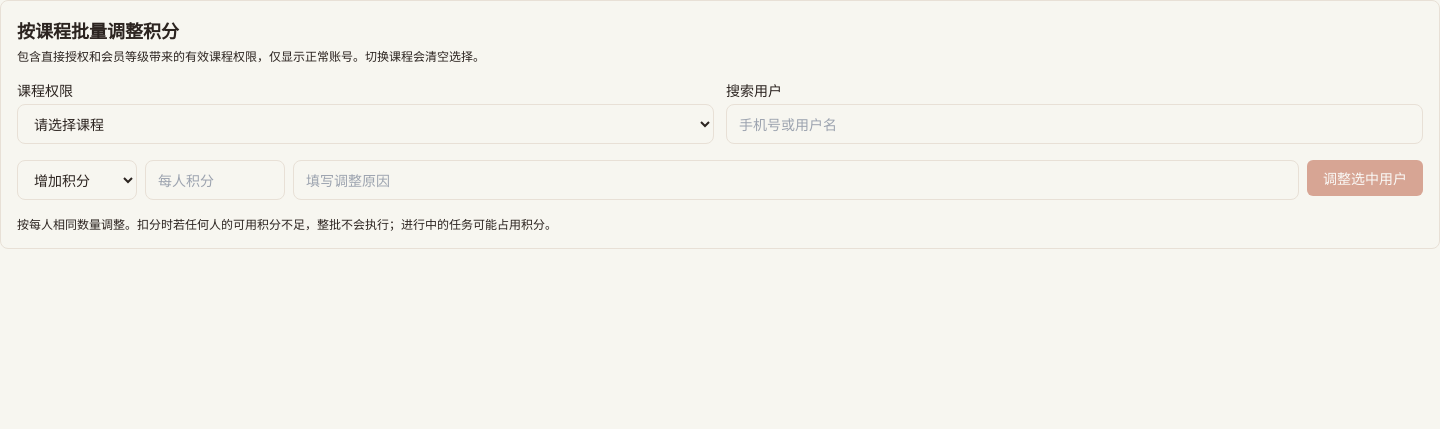
Test: 课程用户批量积分 › 切换课程清空选择，操作失败保留选择并提示核对
This screenshot has width=1440, height=429.
Select "道法教材解读课" in the dropdown labelled "课程权限" at x=366, y=124, box [17, 104, 714, 144]
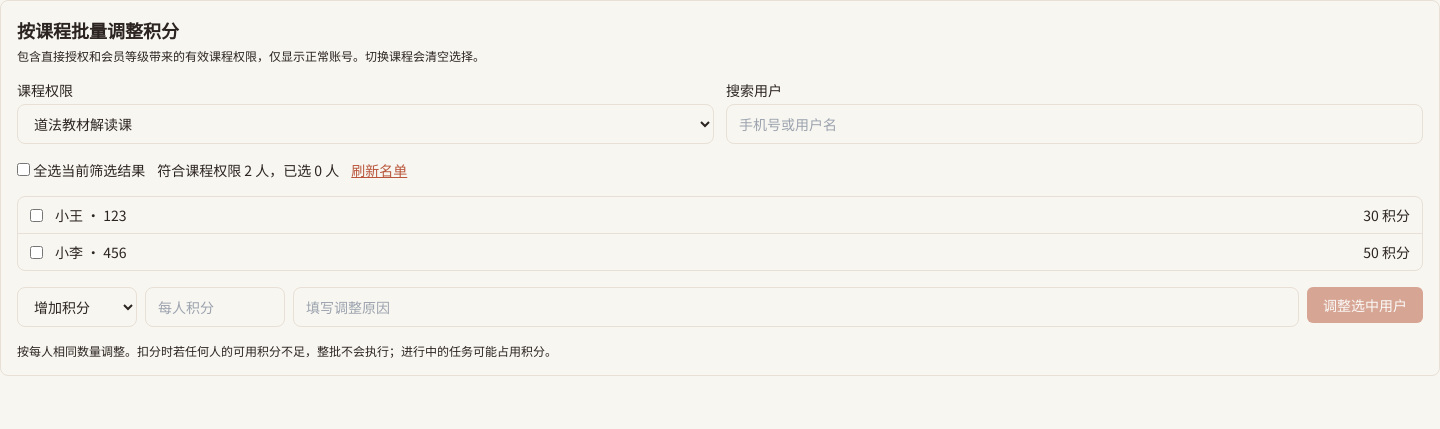
Check: the text "小王 · 123" is shown, box [55, 205, 127, 225]
Click the checkbox labelled "全选当前筛选结果" at x=24, y=170, box [17, 163, 30, 176]
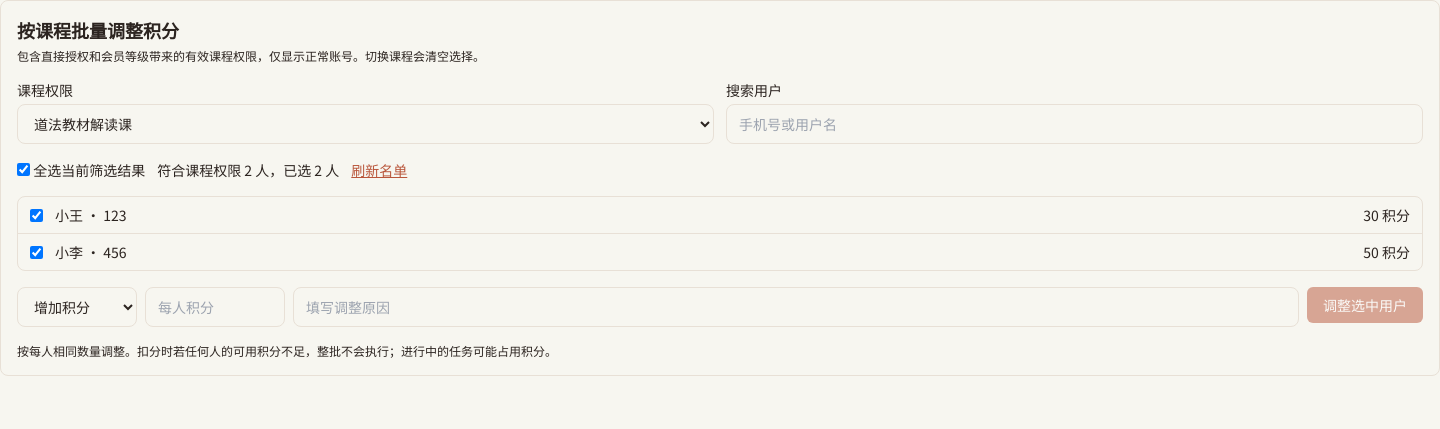
Select "教师 AI 课" in the dropdown labelled "课程权限" at x=366, y=124, box [17, 104, 714, 144]
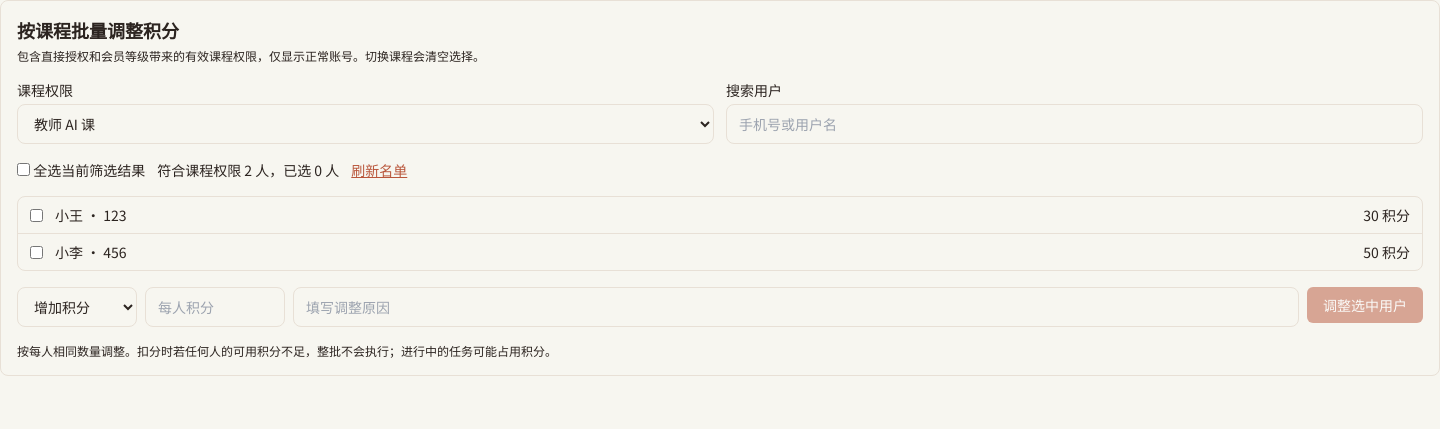
Check: the text "小王 · 123" is shown, box [55, 205, 127, 225]
Check: the text "符合课程权限 2 人，已选 0 人" is shown, box [157, 160, 339, 180]
Click the checkbox labelled "全选当前筛选结果" at x=24, y=170, box [17, 163, 30, 176]
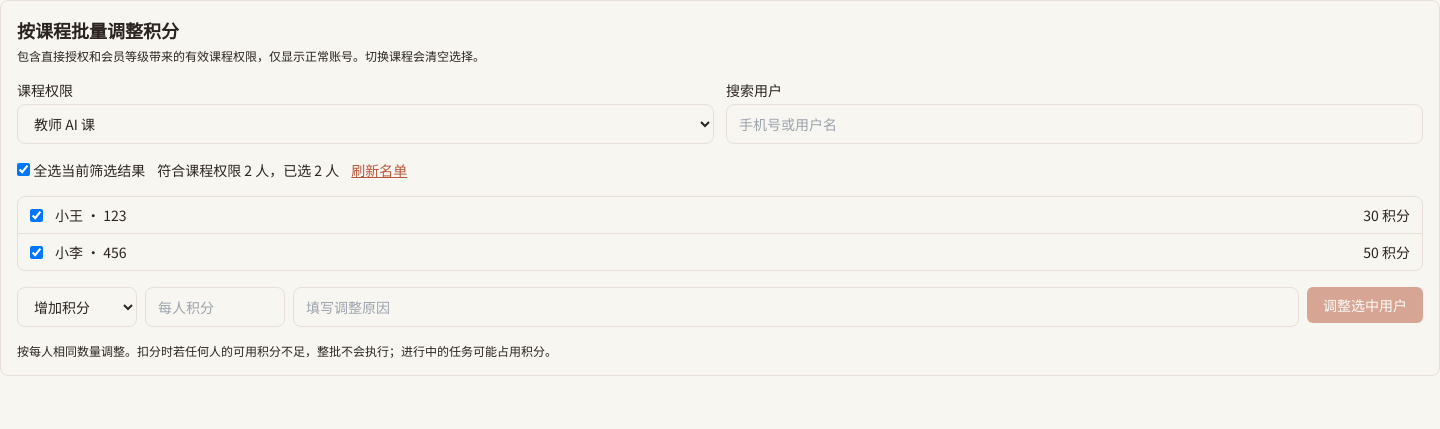
Type "10" into the number field named "每人积分数量" at x=215, y=307, box [145, 287, 285, 327]
Type "赠送" into the field named "批量调整原因" at x=796, y=307, box [293, 287, 1299, 327]
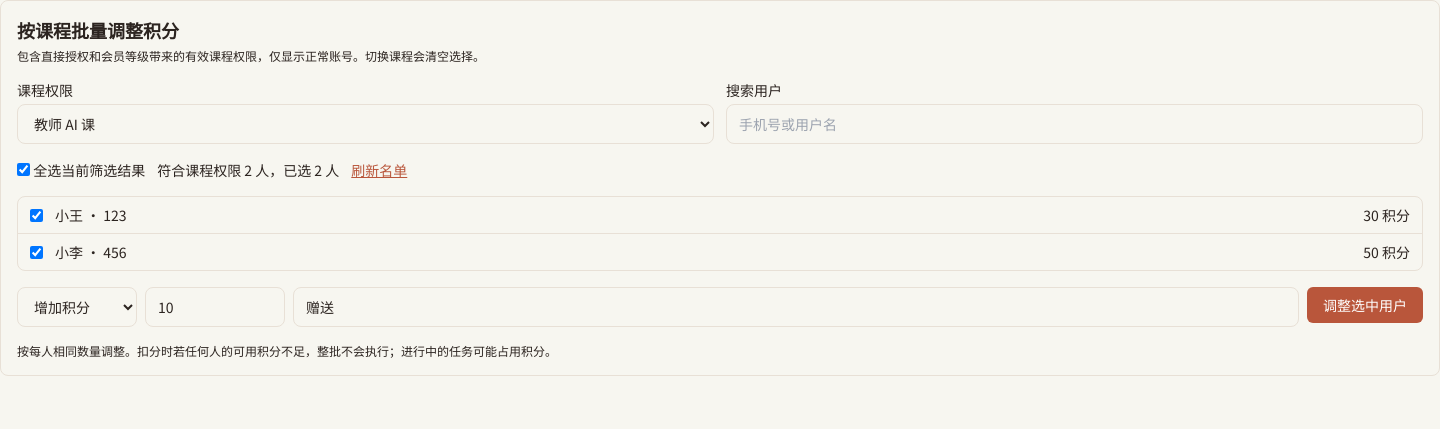
Click the button "调整选中用户" at x=1365, y=305, box [1307, 287, 1423, 323]
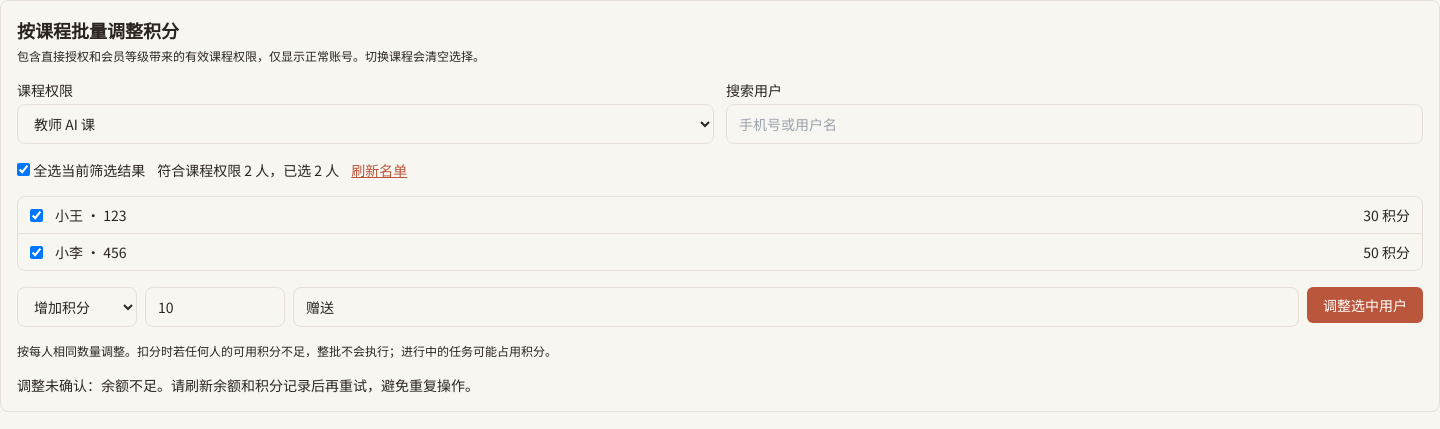
Check: the text "符合课程权限 2 人，已选 2 人" is shown, box [157, 160, 339, 180]
Check: the text "调整未确认：余额不足。请刷新余额和积分记录后再重试，避免重复操作。" is shown, box [17, 375, 479, 395]
